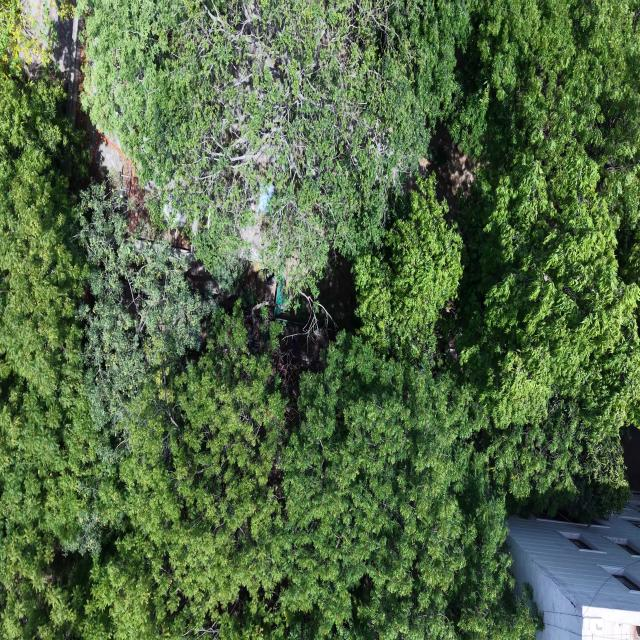DRY_AREA: (420, 123, 476, 220)
VEGETATION_TREE: (0, 0, 639, 639), (87, 302, 531, 638), (84, 0, 469, 290), (452, 0, 639, 499), (0, 67, 87, 638), (77, 186, 206, 435), (0, 75, 86, 396), (354, 174, 462, 359), (0, 0, 50, 73)
